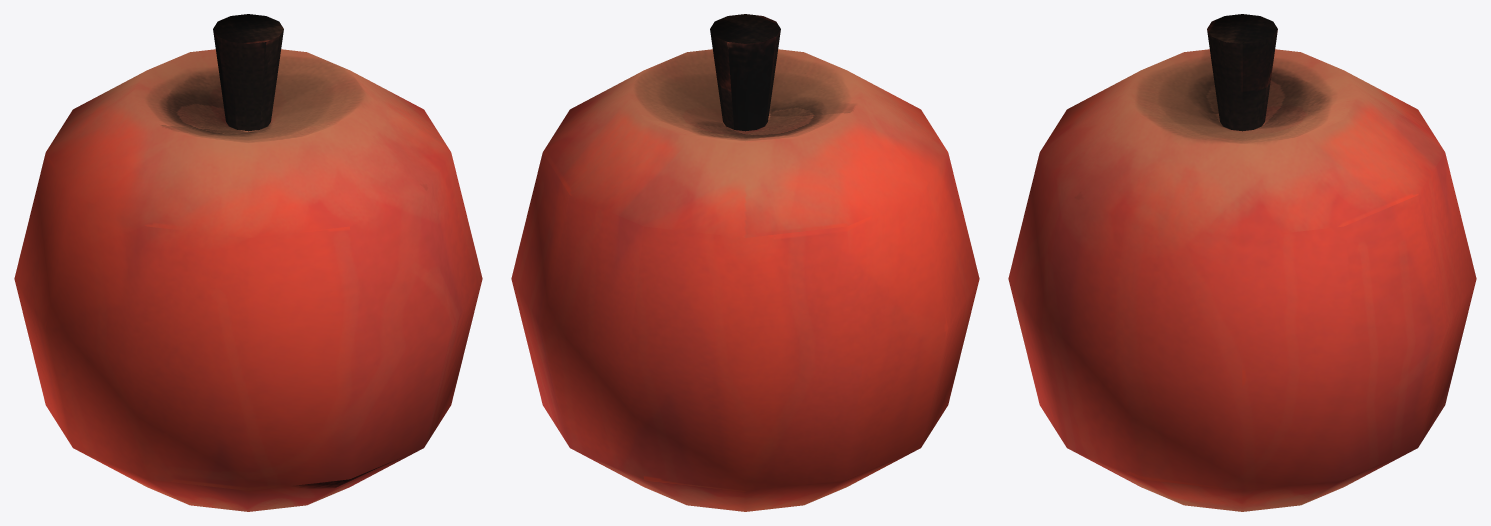
The model's file is Pomme.fbx.
The picture shows the model from 3 angles, left to right: view 1: azimuth 30°, elevation 25°; view 2: azimuth 150°, elevation 25°; view 3: azimuth 270°, elevation 25°; orthographic projection.
Parts seen in each view (by area): view 1: Apple; view 2: Apple; view 3: Apple.
Boxes of the visible parts, x1,y1,x2,y2 form: Apple: (14, 14, 482, 511); Apple: (511, 14, 979, 511); Apple: (1008, 14, 1476, 511).
Bounding box in the file's own units: 0.2807 × 0.3056 × 0.2807.
Materials: 1 (1 with a texture image).
